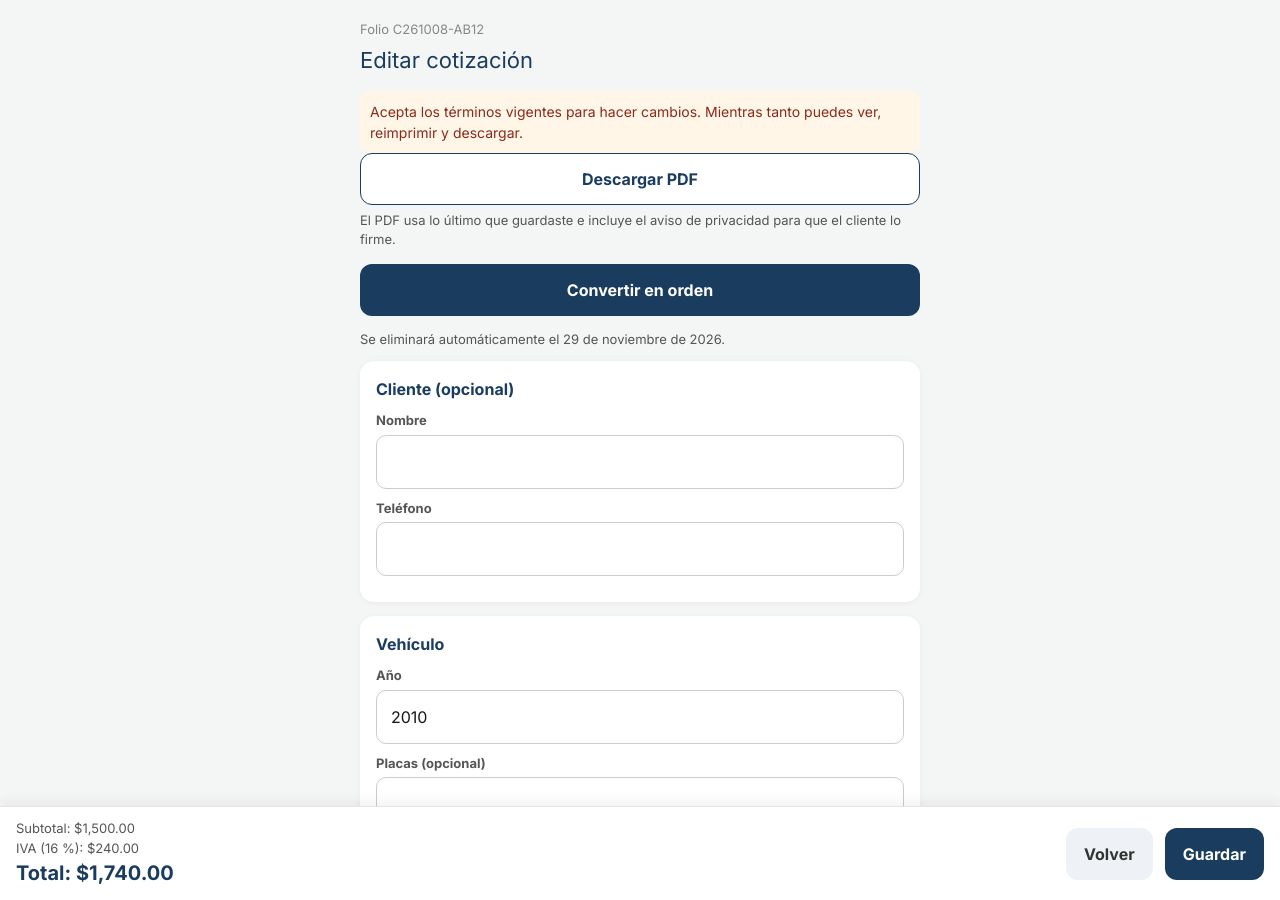
Test case: "Convertir en orden" en el detalle de la cotización › si falla, muestra el mensaje claro y se queda en la cotización
Check: the text "Folio C261008-AB12" is shown, box [360, 21, 484, 37]
Step 1. Click the button "Convertir en orden" → {"x": 640, "y": 290}, box [360, 264, 920, 316]
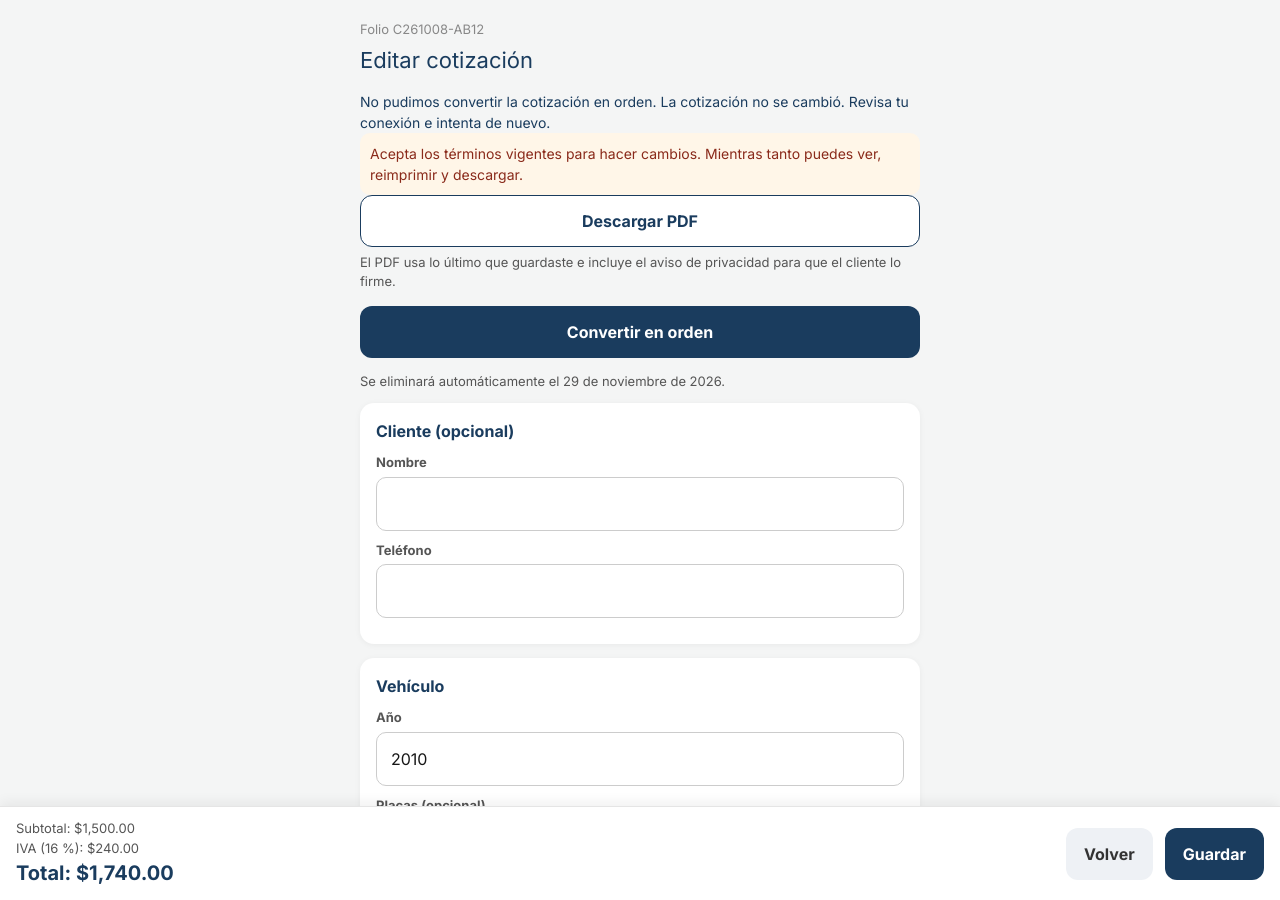
Check: the button "Convertir en orden" is enabled, box [360, 306, 920, 358]
Check: the message shows "La cotización no se cambió.", box [360, 92, 909, 130]
